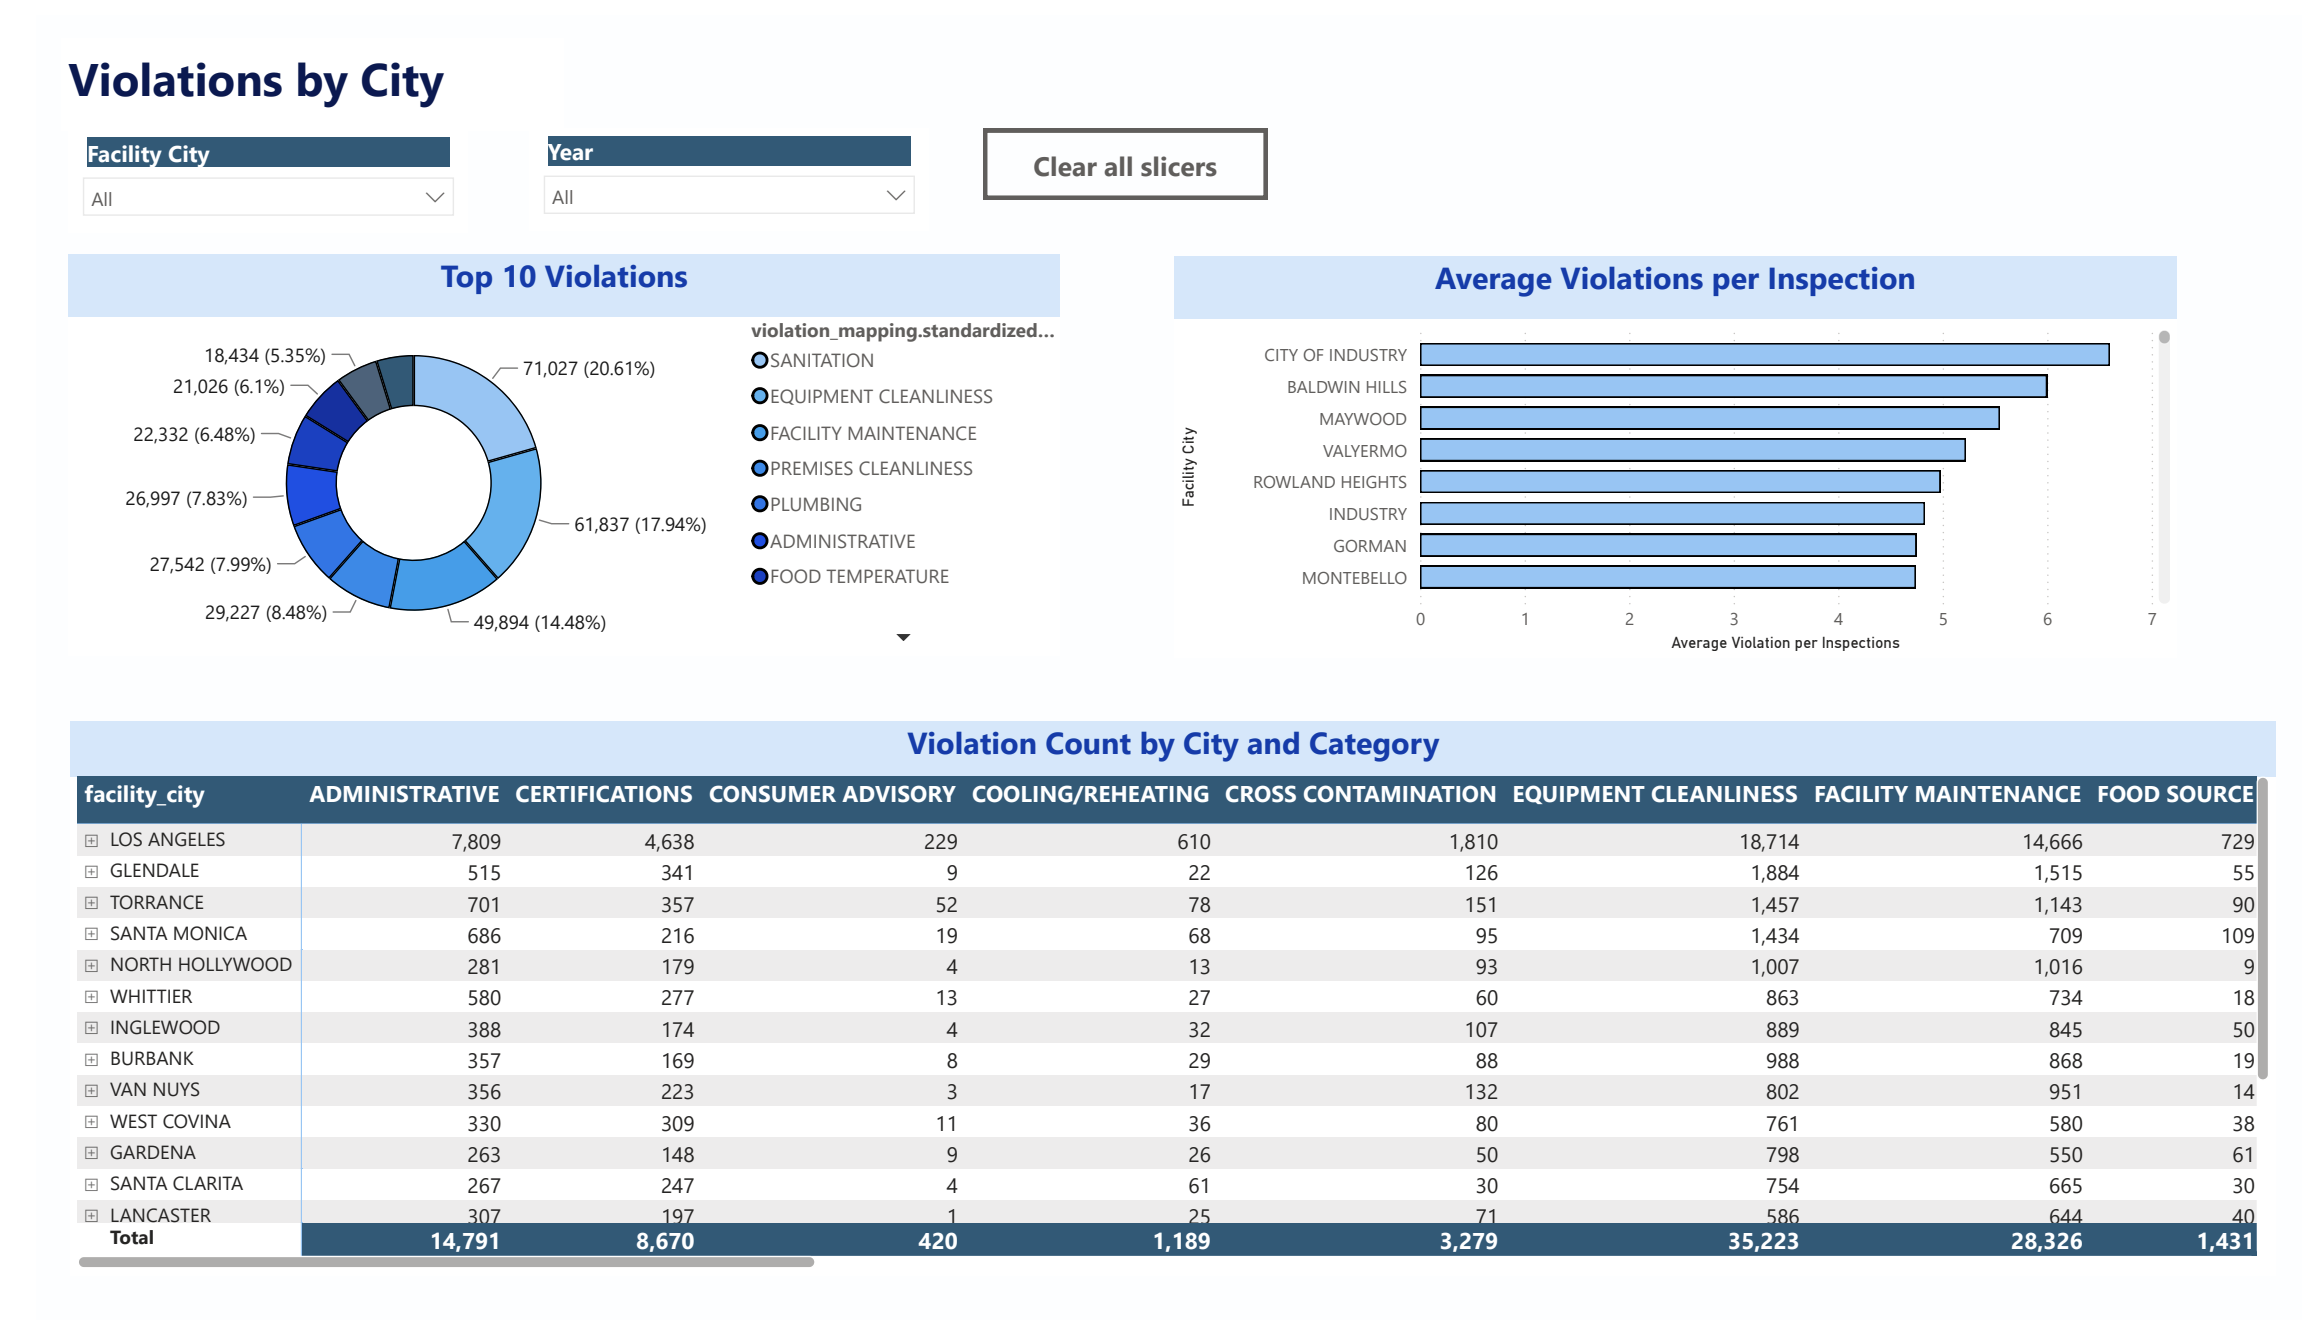

The dashboard page shown, as its layout file describes it:
{"tool":"powerbi","page":{"name":"City Analysis","canvas":[1600,900],"ordinal":1},"visuals":[{"type":"pivotTable","title":"Violation Count by City and Category","fields":{"Rows":["inspections_clean.facility_city","inspections_clean.facility_name"],"Values":["inspections_clean.city_violation_count 2"],"Columns":["violations_clean.violation_mapping.standardized_category"]},"box":[24.5,495.9,1551,389.8],"z":0},{"type":"slicer","fields":{"Values":["inspections_clean.facility_city"]},"box":[22.2,80.6,280.6,71.6],"z":1000},{"type":"slicer","fields":{"Values":["CalendarDate.Year"]},"box":[346.3,79.6,280.6,71.6],"z":2000},{"type":"donutChart","title":"Top 10 Violations","fields":{"Y":["inspections_clean.city_violation_count 2"],"Category":["violations_clean.violation_mapping.standardized_category"]},"box":[22.2,168.1,697.2,281.9],"z":3000},{"type":"textbox","box":[17.7,16.1,353.2,64.5],"z":4000},{"type":"barChart","title":"Average Violations per Inspection","fields":{"Category":["inspections_clean.facility_city"],"Y":["inspections_clean.AvgViolationsPerInspections"]},"box":[800,169.4,705.4,282.1],"z":5000},{"type":"actionButton","box":[666.1,80.4,200,50],"z":6000}]}

Visuals, with their boxes in screenshot pixels (x1, y1, x2, y2), scaled from the page's 1600x900 canvas onto the 2302x1320 screenshot:
"Violation Count by City and Category" pivotTable: 35:727:2267:1299
slicer - inspections_clean.facility_city: 32:118:436:223
slicer - CalendarDate.Year: 498:117:902:222
"Top 10 Violations" donutChart: 32:247:1035:660
textbox: 25:24:534:118
"Average Violations per Inspection" barChart: 1151:248:2166:662
actionButton: 958:118:1246:191
